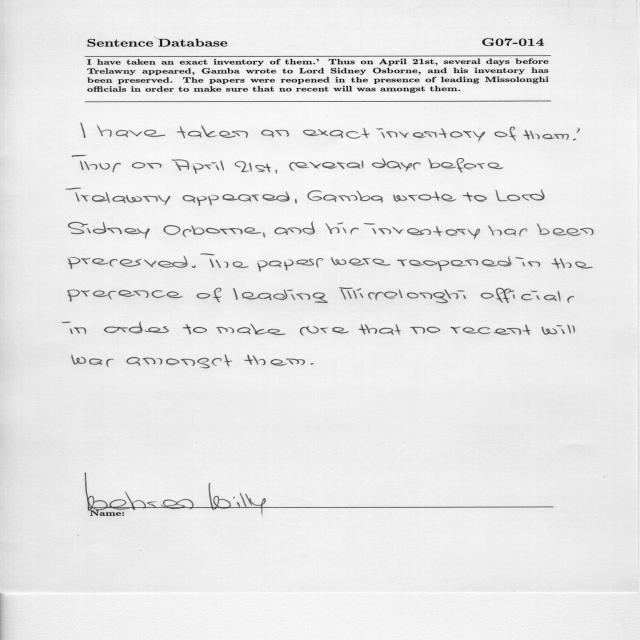word: (363, 223, 480, 240), (339, 288, 466, 303), (66, 188, 170, 206), (398, 256, 512, 271), (68, 255, 187, 269), (183, 191, 290, 206), (377, 128, 485, 142), (127, 355, 232, 369), (233, 288, 328, 303), (481, 288, 574, 303), (68, 222, 150, 239), (68, 290, 183, 302), (163, 225, 261, 238), (428, 158, 503, 172), (307, 190, 383, 203), (258, 258, 324, 272), (177, 125, 248, 138), (97, 125, 165, 138), (72, 155, 121, 172), (289, 160, 364, 171), (450, 325, 531, 335), (172, 159, 224, 174), (216, 324, 285, 335), (537, 223, 594, 236), (303, 128, 370, 139), (104, 322, 169, 333), (393, 191, 456, 202), (372, 158, 421, 172), (200, 254, 249, 268), (244, 355, 305, 366), (495, 189, 545, 201), (274, 222, 315, 235), (331, 257, 390, 266), (523, 129, 569, 140), (72, 355, 113, 367), (489, 225, 528, 237), (359, 324, 401, 335), (300, 326, 349, 335), (551, 258, 593, 268), (325, 223, 359, 235), (235, 161, 271, 172), (542, 324, 575, 335), (197, 288, 222, 302), (495, 127, 517, 141), (63, 322, 87, 334), (516, 257, 541, 267), (463, 192, 487, 202), (183, 324, 207, 334), (261, 130, 289, 138), (132, 162, 162, 169), (411, 327, 441, 334), (81, 122, 85, 138), (576, 128, 580, 133), (192, 265, 196, 268), (295, 199, 297, 204), (263, 233, 265, 238), (275, 170, 277, 174), (573, 139, 576, 141), (311, 363, 314, 365)
